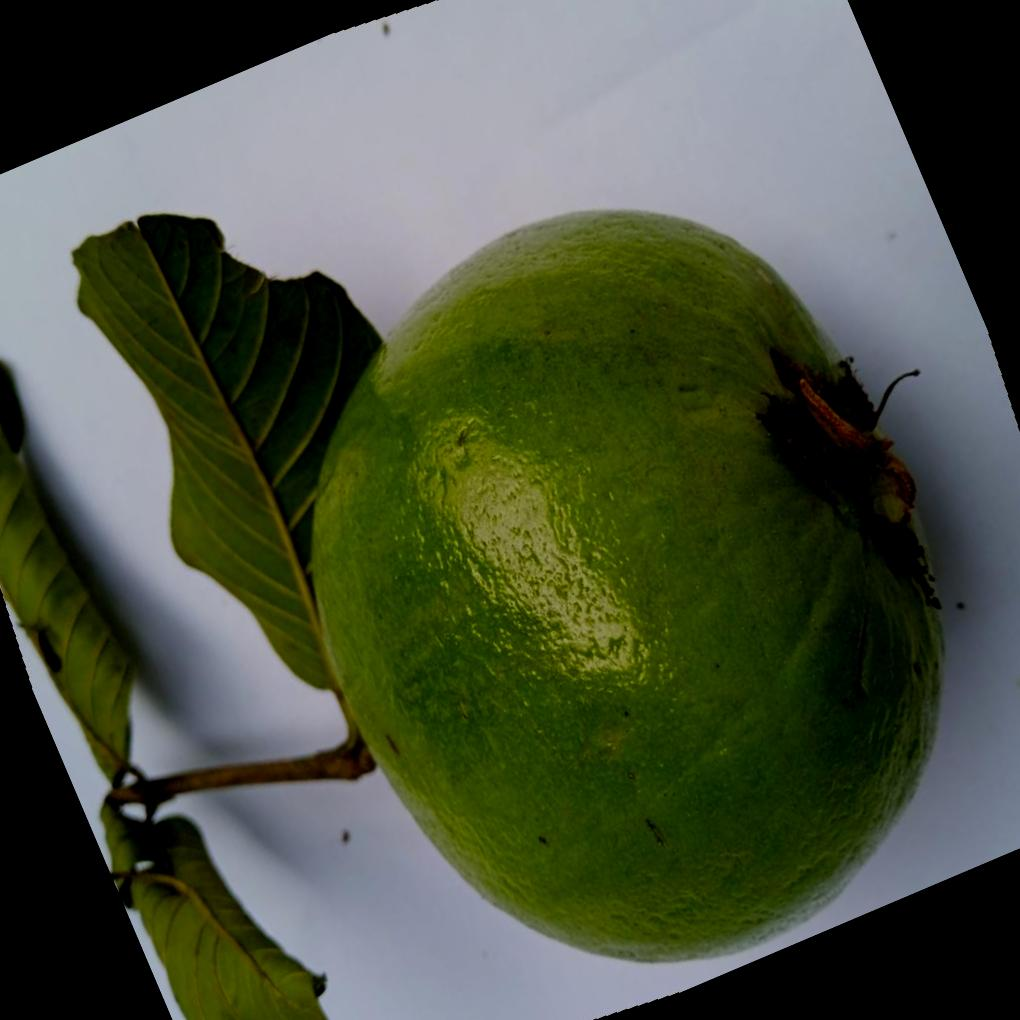FreshGuava: (306, 204, 948, 964)
